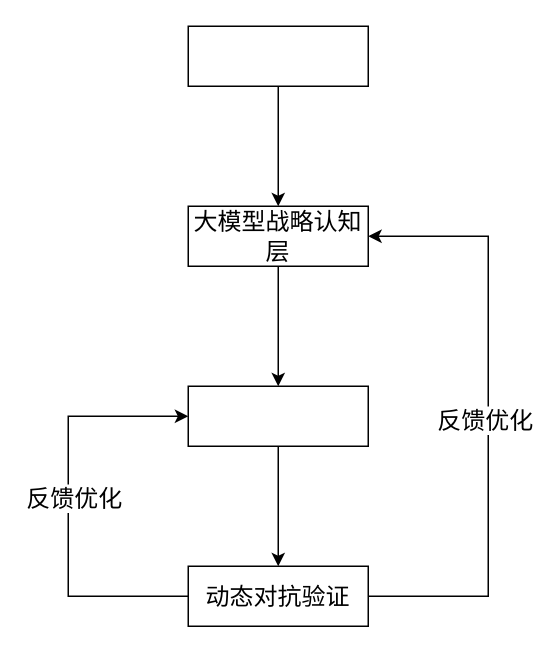
Image size: 558x653. Some labels were removed from this diagram. Each missing label, with the box of its shape:
多源战场数据输入: (187, 25, 368, 86)
小模型战术执行层: (187, 385, 368, 446)
